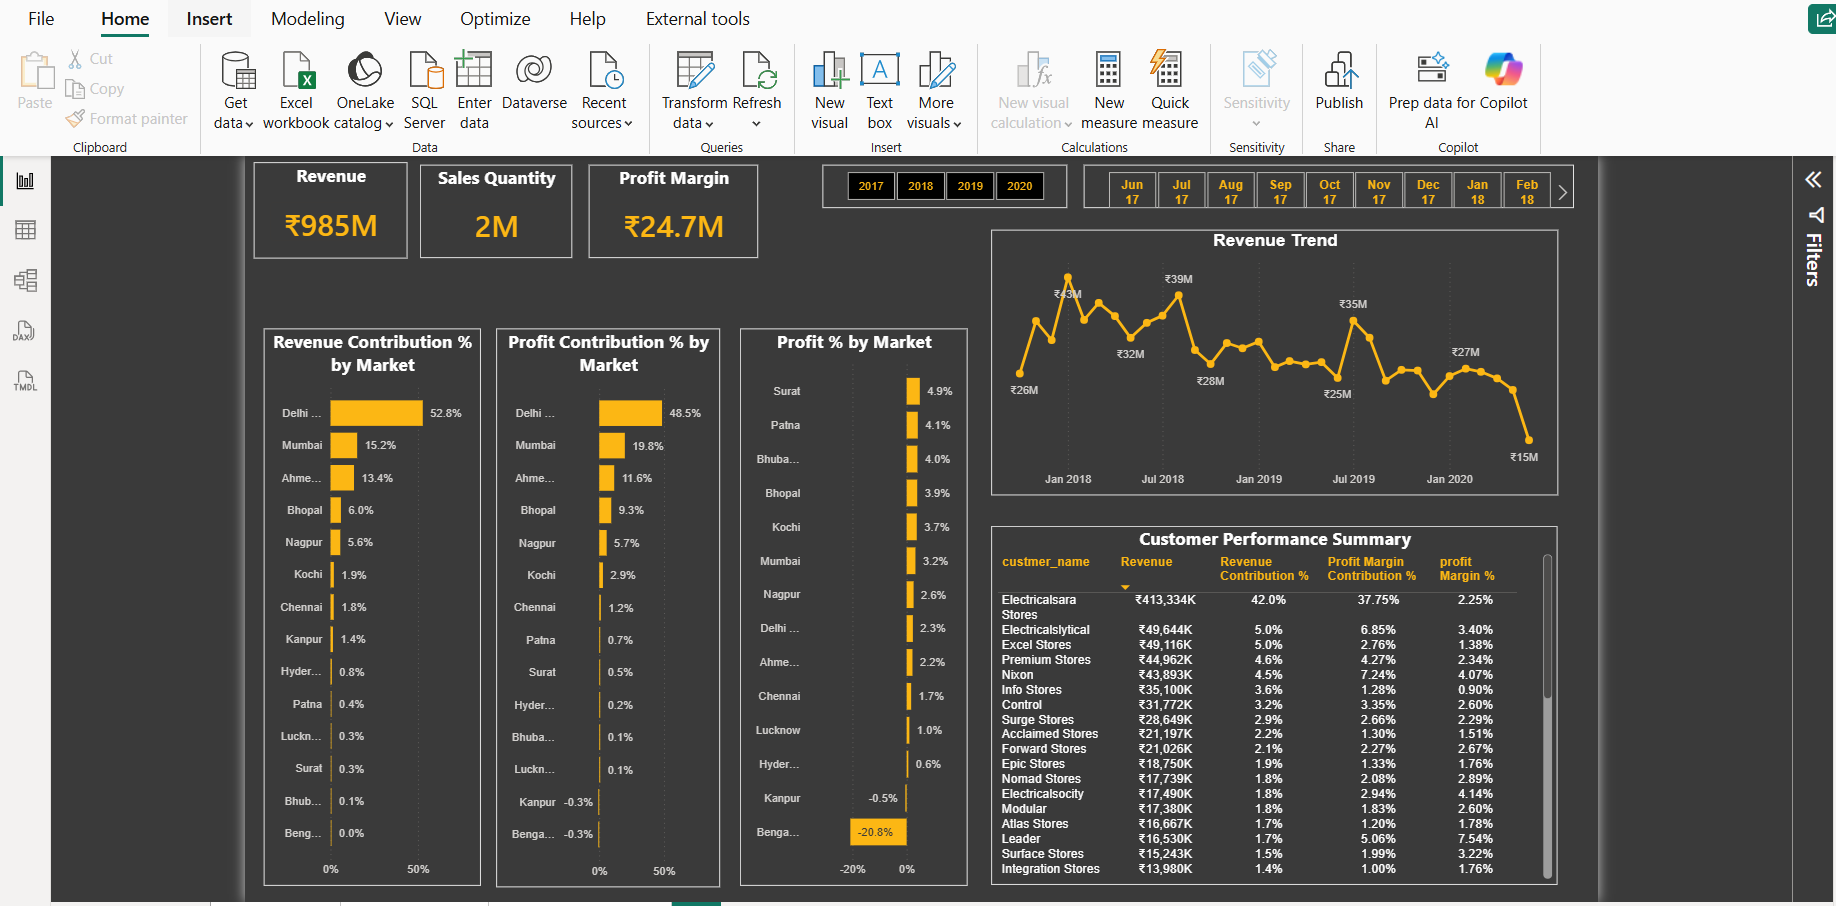

This screenshot's page, from the dashboard's own definition file:
{"tool":"powerbi","page":{"name":"Profit Analysis","canvas":[1450,800],"ordinal":1},"visuals":[{"type":"cardVisual","title":"Revenue","fields":{"Data":["MEASURES (2).Revenue"]},"box":[9.9,7,164.9,102.9],"z":0},{"type":"cardVisual","title":"Sales Quantity","fields":{"Data":["MEASURES (2).Sales Qty"]},"box":[187.5,9.9,163.5,100.1],"z":1000},{"type":"barChart","title":"Profit % by Market","fields":{"Category":["sales markets.markets_name"],"Y":["MEASURES (2).profit Margin %"]},"box":[531.3,184.6,243.8,597.6],"z":2000},{"type":"barChart","title":"Revenue Contribution % by Market","fields":{"Category":["sales markets.markets_name"],"Y":["MEASURES (2).Revenue Comtribution %"]},"box":[19.7,184.6,232.6,597.6],"z":3000},{"type":"slicer","fields":{"Values":["sales date.year"]},"box":[619.6,9.5,262.2,46.2],"z":4000},{"type":"slicer","fields":{"Values":["sales date.cy_date"]},"box":[899.5,9.5,525.8,46.2],"z":5000},{"type":"tableEx","title":"Customer Performance Summary","fields":{"Values":["sales customers.custmer_name","MEASURES (2).Revenue","MEASURES (2).Revenue Contribution %","MEASURES (2).Profit Margin Contribution %","MEASURES (2).profit Margin %"]},"box":[800.5,397.5,607.5,384.8],"z":6000},{"type":"lineChart","title":"Revenue Trend","fields":{"Category":["sales date.cy_date"],"Y":["MEASURES (2).Revenue"]},"box":[800.1,79.2,608.1,284.7],"z":7000},{"type":"cardVisual","title":"Profit Margin","fields":{"Data":["MEASURES (2).Total Profit Margin"]},"box":[369.3,9.9,181.8,100.1],"z":8000},{"type":"barChart","title":"Profit Contribution % by Market","fields":{"Category":["sales markets.markets_name"],"Y":["MEASURES (2).Profit Margin Contribution %"]},"box":[269.2,184.6,239.6,599],"z":9000}]}

Visuals, with their boxes on the page's 1450x800 design canvas (x1, y1, x2, y2). These are canvas units, not pixel positions in the 1836x906 screenshot, which may show the page scaled, cropped or inside an application window:
"Revenue" cardVisual: <bbox>10, 7, 175, 110</bbox>
"Sales Quantity" cardVisual: <bbox>188, 10, 351, 110</bbox>
"Profit % by Market" barChart: <bbox>531, 185, 775, 782</bbox>
"Revenue Contribution % by Market" barChart: <bbox>20, 185, 252, 782</bbox>
slicer - sales date.year: <bbox>620, 10, 882, 56</bbox>
slicer - sales date.cy_date: <bbox>900, 10, 1425, 56</bbox>
"Customer Performance Summary" tableEx: <bbox>800, 398, 1408, 782</bbox>
"Revenue Trend" lineChart: <bbox>800, 79, 1408, 364</bbox>
"Profit Margin" cardVisual: <bbox>369, 10, 551, 110</bbox>
"Profit Contribution % by Market" barChart: <bbox>269, 185, 509, 784</bbox>
